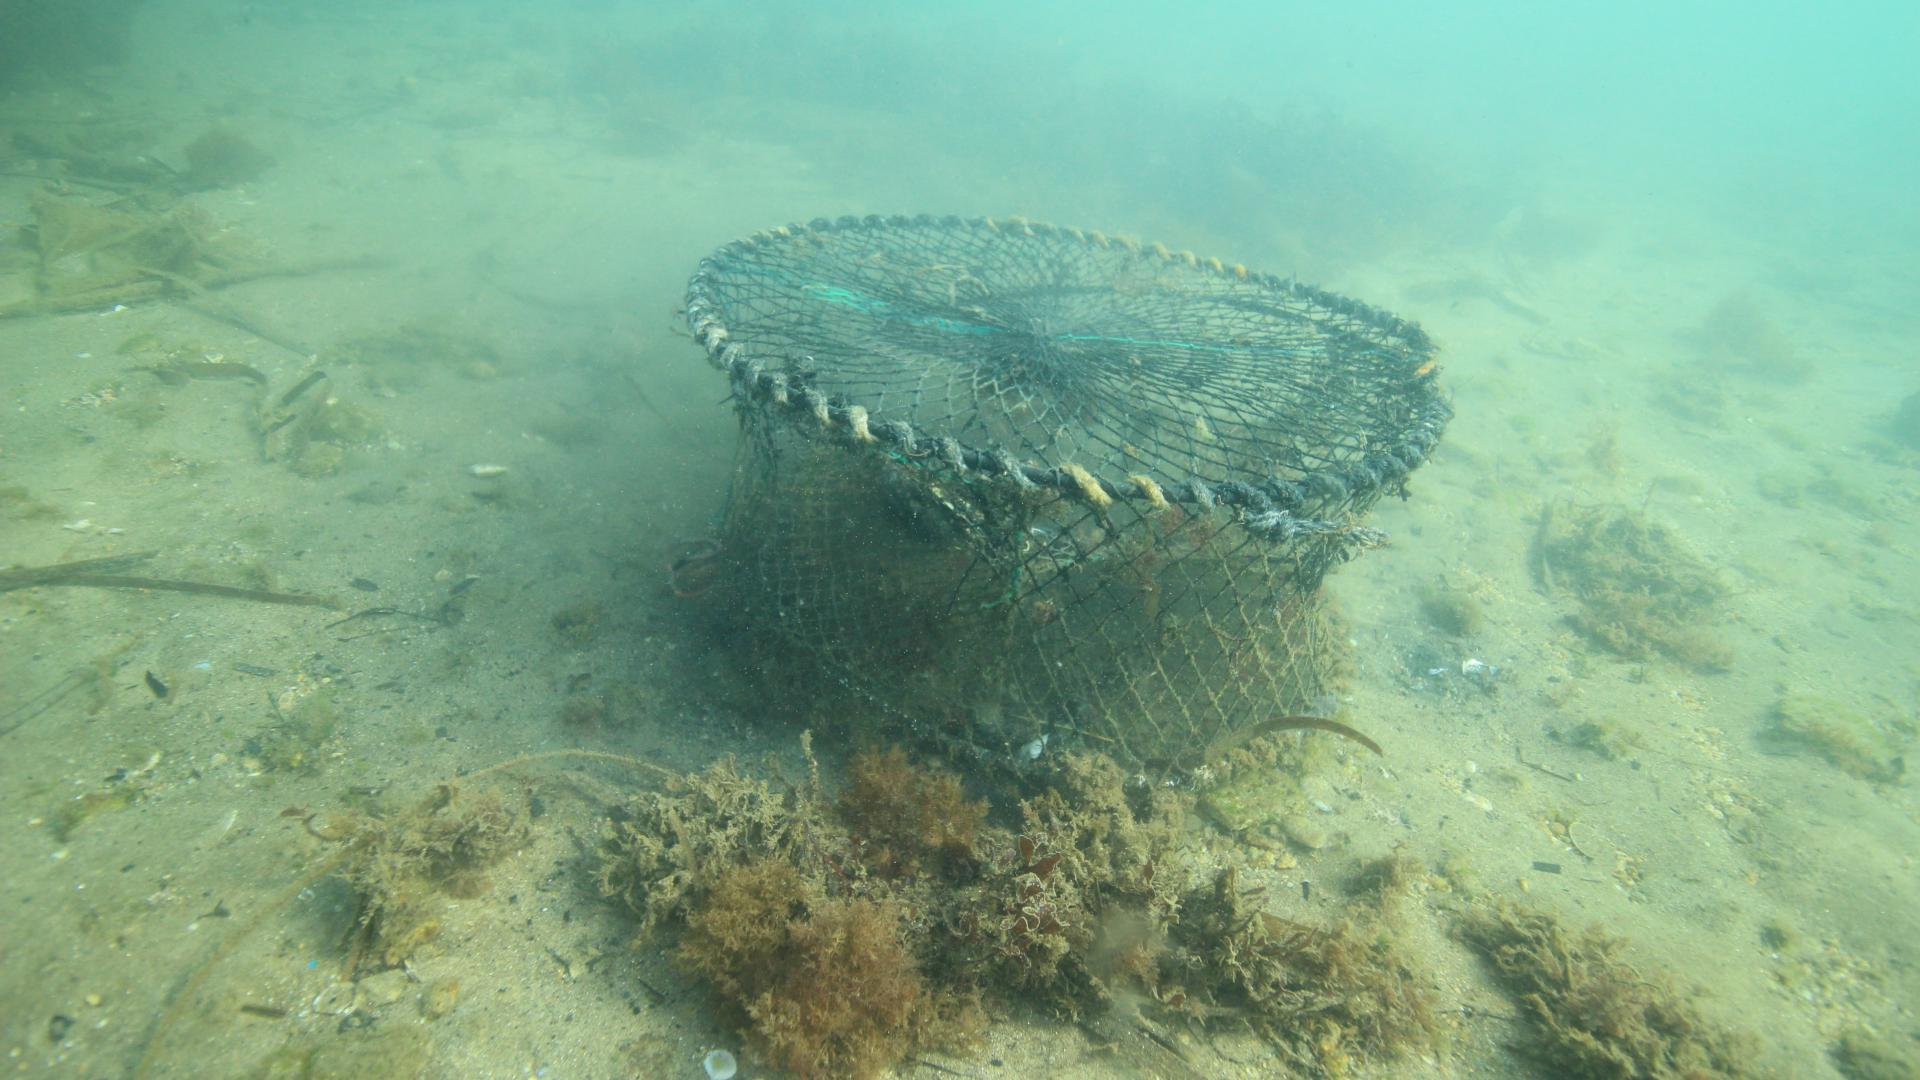circular fish trap: (680, 208, 1455, 794)
